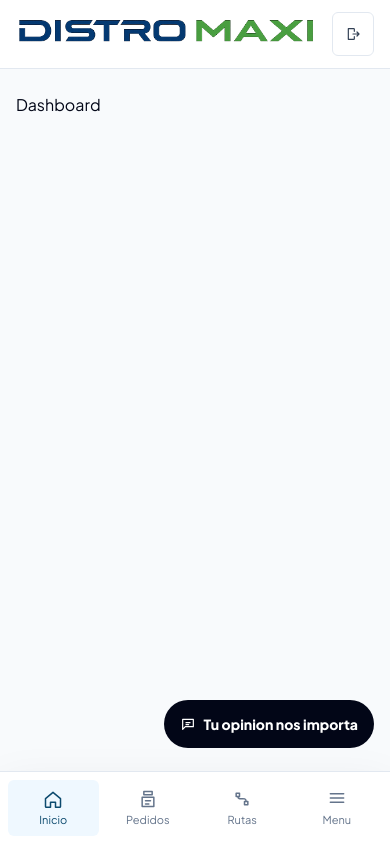
AppLayout › opens the complete mobile menu for distributor routes beyond the quick links
The image size is (390, 844).
Click the button with aria-label "abrir menu completo" at (337, 808), box left=292, top=780, right=382, bottom=836
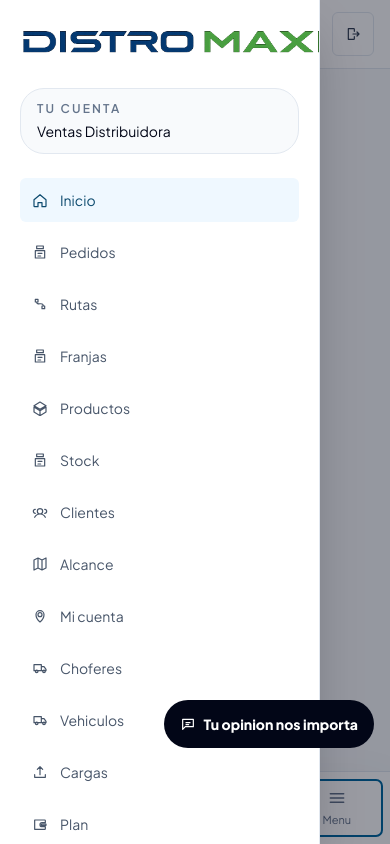
Expected: the link "Vehiculos" is shown
Expected: the link "Alcance" is shown, left=32, top=555, right=114, bottom=573
Expected: the link "Plan" is shown, left=32, top=815, right=88, bottom=833
Click the link "Vehiculos" at (78, 720), box left=32, top=711, right=124, bottom=729
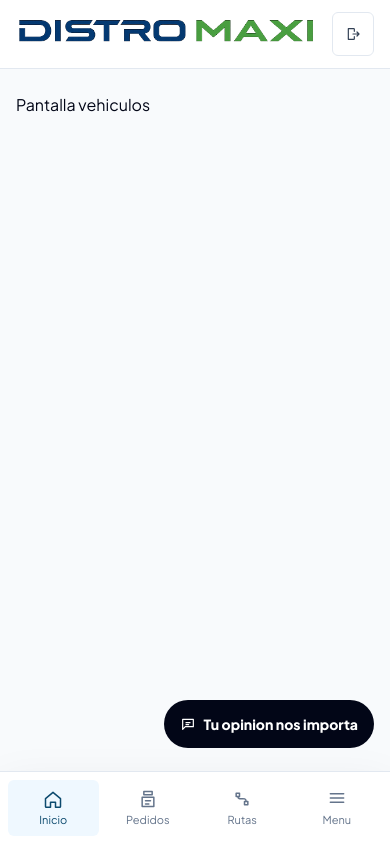
Expected: the text "Pantalla vehiculos" is shown, left=16, top=94, right=150, bottom=115
